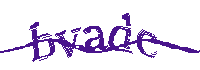a: (82, 23, 107, 53)
b: (29, 19, 56, 63)
c: (137, 27, 158, 61)
d: (109, 12, 133, 54)
v: (56, 26, 81, 59)
